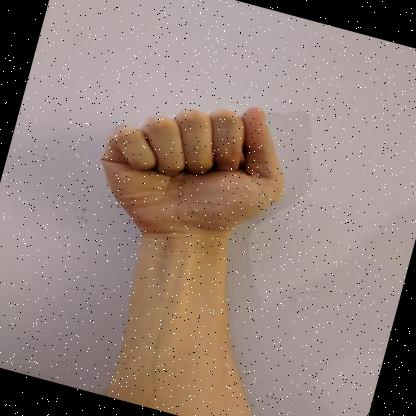A: (100, 106, 284, 260)
